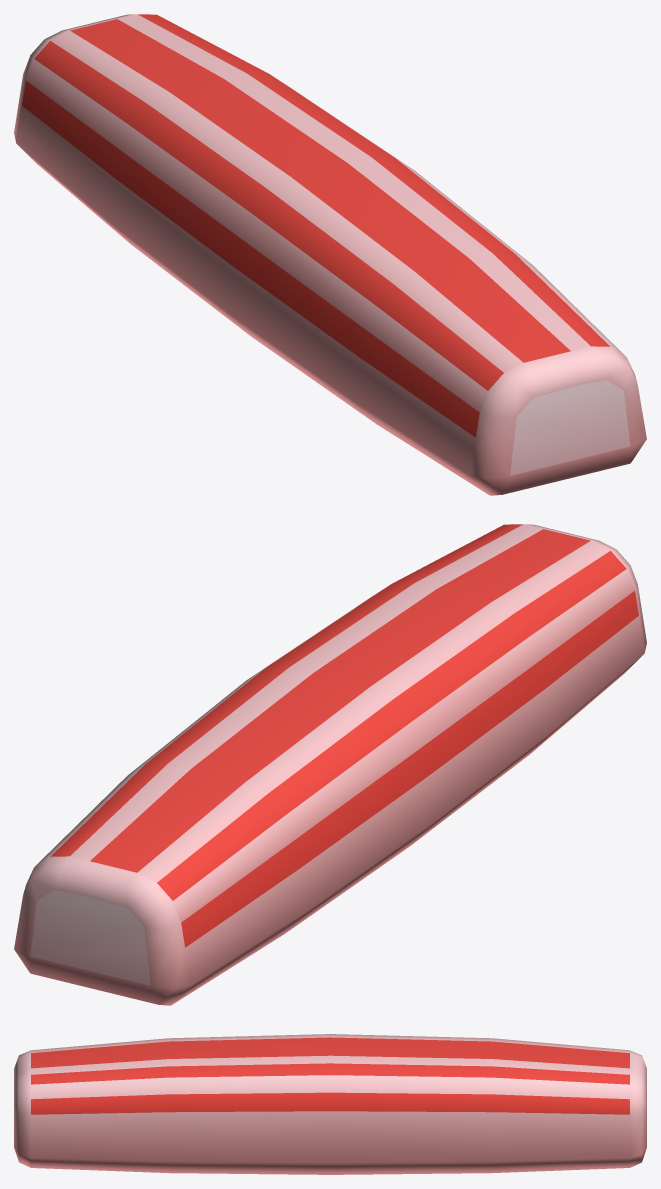
The model's file is crab_stick_001.fbx.
The picture shows the model from 3 angles, top to bottom: view 1: azimuth 30°, elevation 25°; view 2: azimuth 150°, elevation 25°; view 3: azimuth 270°, elevation 25°; orthographic projection. The views are drawn at different scales.
Visible parts, largest first — view 1: crab_stick_001; view 2: crab_stick_001; view 3: crab_stick_001.
Boxes of the visible parts, <box> form: crab_stick_001: <box>14,14,646,495</box>; crab_stick_001: <box>14,524,646,1005</box>; crab_stick_001: <box>14,1034,646,1174</box>.
Bounding box in the file's own units: 2.81 × 11.17 × 1.92.
